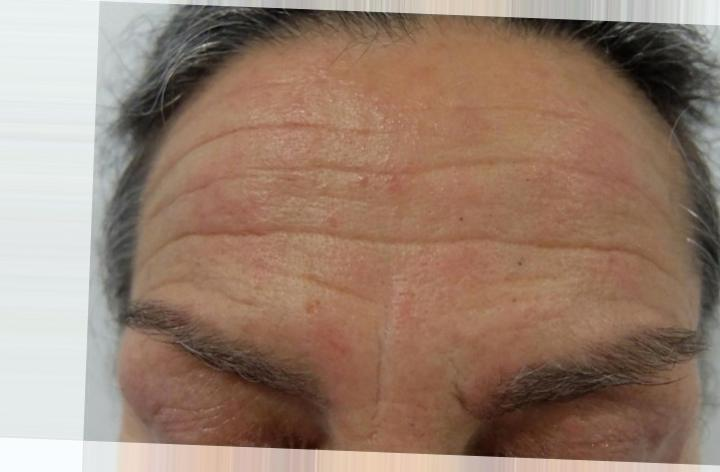Contact Dermatitis: (180, 99, 679, 308)
